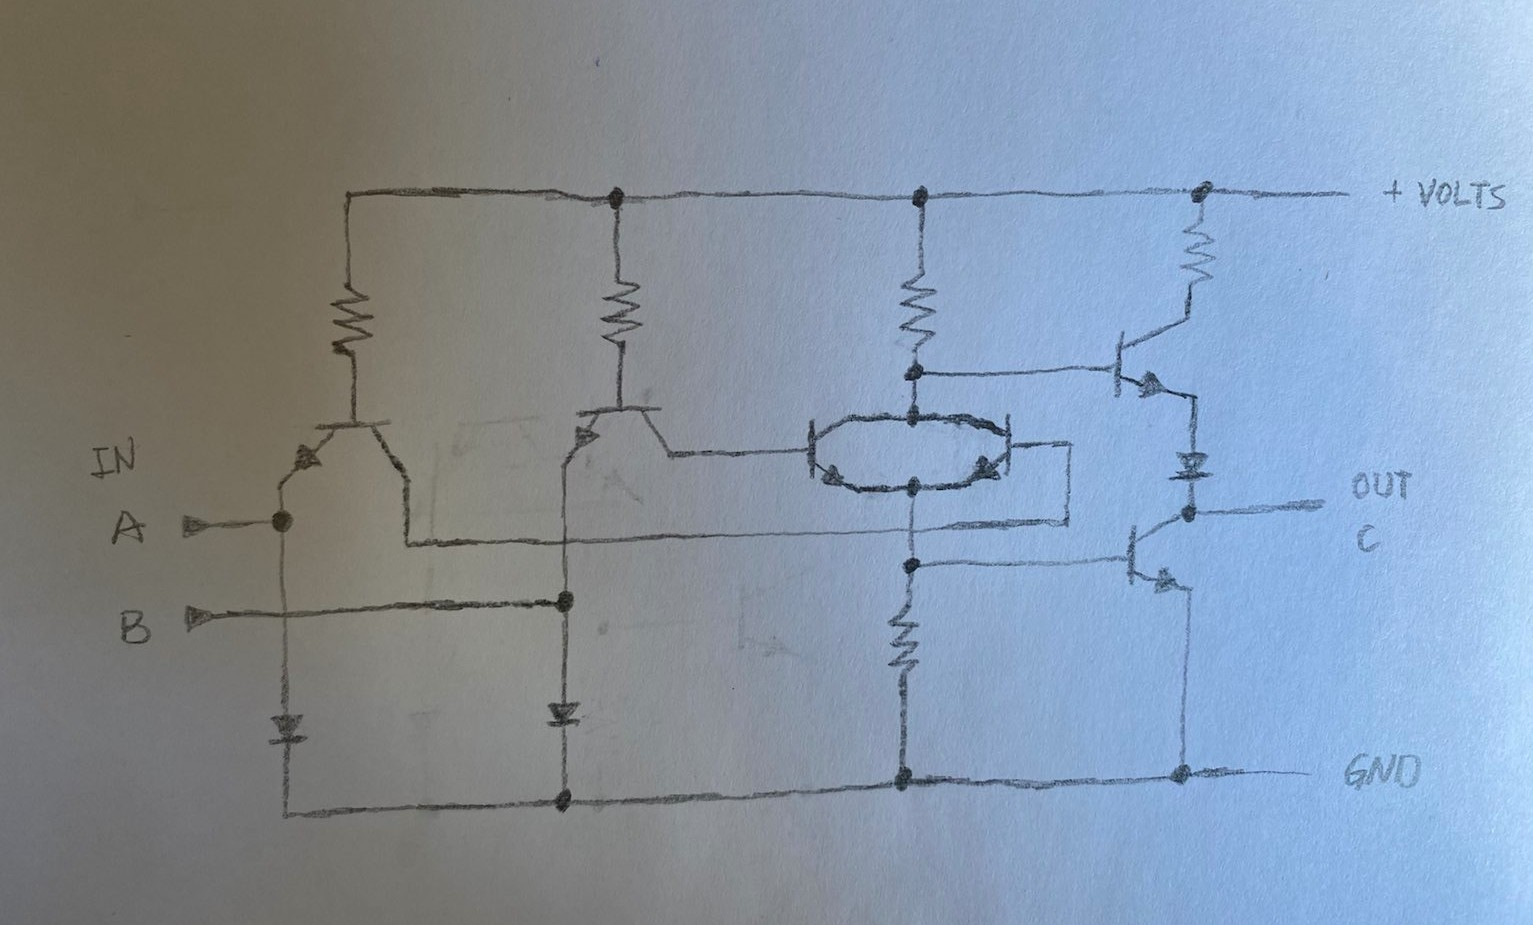diode: (1165, 440, 1225, 490), (260, 706, 318, 754), (539, 691, 589, 736)
junction: (879, 755, 932, 807), (1159, 749, 1211, 796), (538, 782, 591, 821), (394, 522, 443, 560), (1182, 173, 1227, 210), (593, 175, 636, 213), (260, 502, 303, 540), (891, 550, 942, 581), (543, 580, 586, 617), (1169, 495, 1209, 534), (545, 523, 591, 556), (272, 797, 312, 833), (904, 175, 940, 217), (1045, 502, 1088, 535), (895, 466, 931, 502), (268, 601, 312, 631), (1049, 431, 1090, 462), (899, 355, 933, 390), (889, 513, 930, 539), (898, 401, 927, 433), (334, 181, 365, 207)
resistor: (586, 271, 652, 356), (891, 263, 950, 352), (325, 273, 378, 365), (878, 602, 926, 687), (1176, 217, 1221, 296)
terminal: (168, 505, 230, 544), (180, 598, 240, 636), (1302, 175, 1364, 211), (1290, 484, 1339, 517), (1273, 758, 1328, 787)
text: (1336, 745, 1426, 796), (1416, 170, 1511, 215), (1344, 462, 1420, 501), (85, 433, 145, 483), (111, 602, 155, 649), (101, 506, 149, 550), (1351, 518, 1391, 560), (1378, 172, 1407, 207)
transistor: (265, 414, 418, 492), (547, 400, 685, 474), (1102, 307, 1202, 406), (799, 407, 881, 500), (945, 405, 1021, 495), (1113, 512, 1180, 605)
